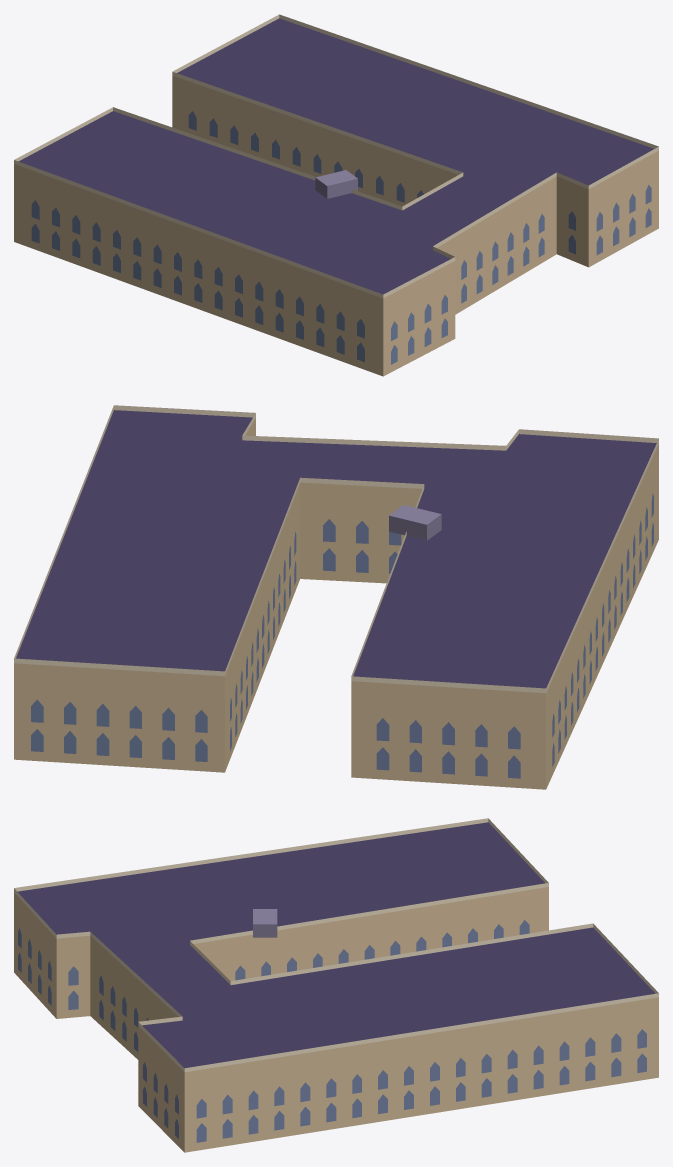
File: b-044-day.glb
3 renders of one model, top to bottom at view 1: azimuth 30°, elevation 25°; view 2: azimuth 150°, elevation 25°; view 3: azimuth 270°, elevation 25°, orthographic. The views are drawn at different scales.
Parts seen in each view (by area): view 1: campus/b-044-day-0; view 2: campus/b-044-day-0; view 3: campus/b-044-day-0.
Boxes of the visible parts, x1,y1,x2,y2 form: campus/b-044-day-0: (14,14,658,376); campus/b-044-day-0: (14,405,658,789); campus/b-044-day-0: (14,818,658,1152).
Size of the model in its own units: 72.71 by 12.7 by 79.26.
